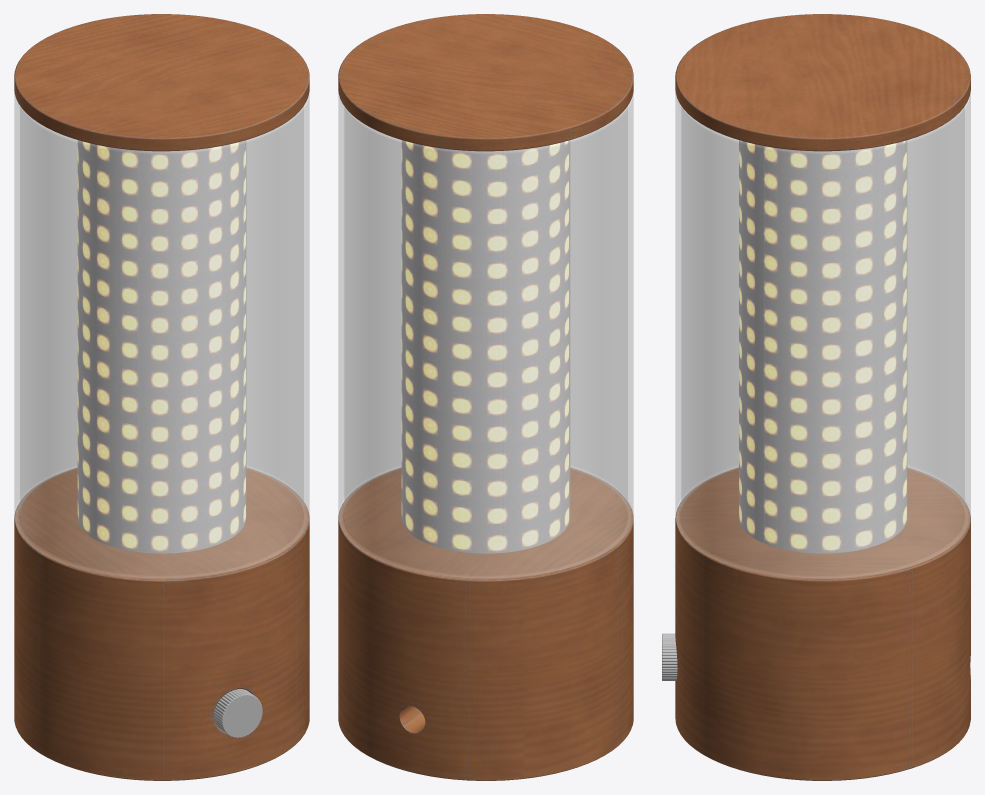
Rendered from modelrender.glb.
The picture shows the model from 3 angles, left to right: view 1: azimuth 30°, elevation 25°; view 2: azimuth 150°, elevation 25°; view 3: azimuth 270°, elevation 25°; orthographic projection.
Parts seen in each view (by area): view 1: shade, base, ledmatrix, top, knob; view 2: shade, base, ledmatrix, top; view 3: shade, base, ledmatrix, top, knob.
Part boxes in pixels (bbox=[...]): shade: bbox=[14, 93, 309, 579]; base: bbox=[14, 468, 309, 780]; ledmatrix: bbox=[77, 140, 246, 553]; top: bbox=[14, 14, 309, 151]; knob: bbox=[213, 689, 262, 738]; shade: bbox=[338, 94, 633, 579]; base: bbox=[338, 468, 633, 780]; ledmatrix: bbox=[401, 140, 570, 553]; top: bbox=[338, 14, 633, 151]; shade: bbox=[675, 92, 970, 578]; base: bbox=[675, 467, 970, 780]; ledmatrix: bbox=[739, 140, 907, 553]; top: bbox=[675, 14, 970, 151]; knob: bbox=[662, 633, 677, 680].
Bounding box in the file's own units: 0.1 × 0.24 × 0.1045.
9 materials, 3 textured.
